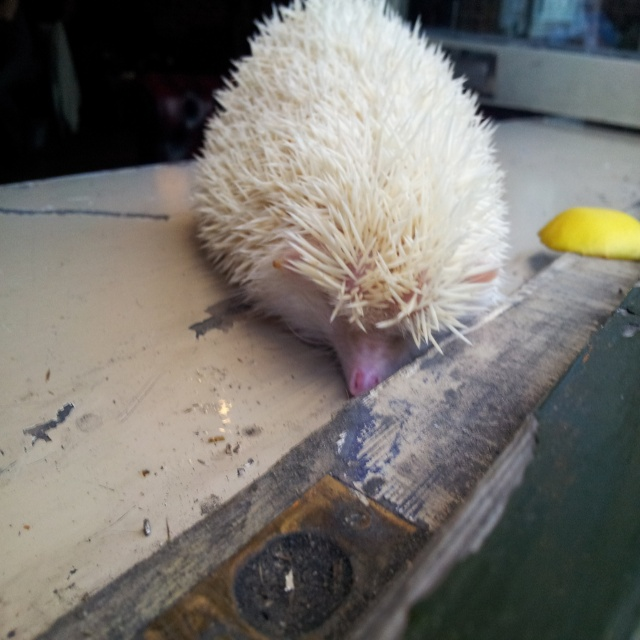Hedgehog: (188, 0, 513, 397)
